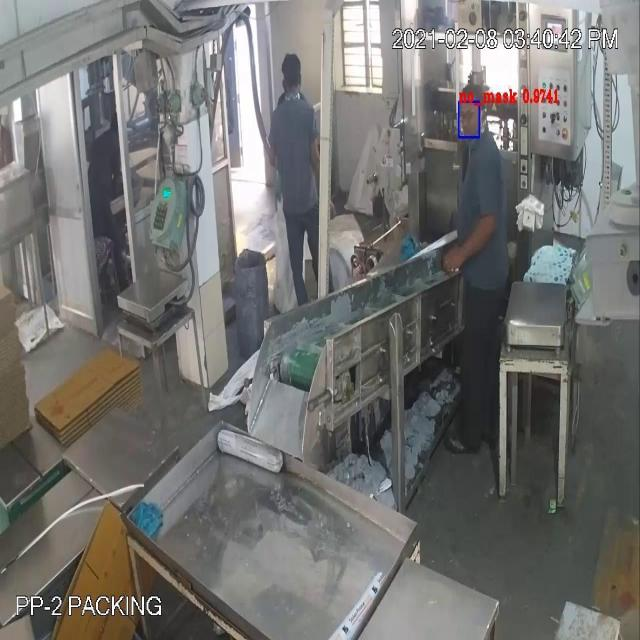No_Gloves: (432, 209, 496, 275)
